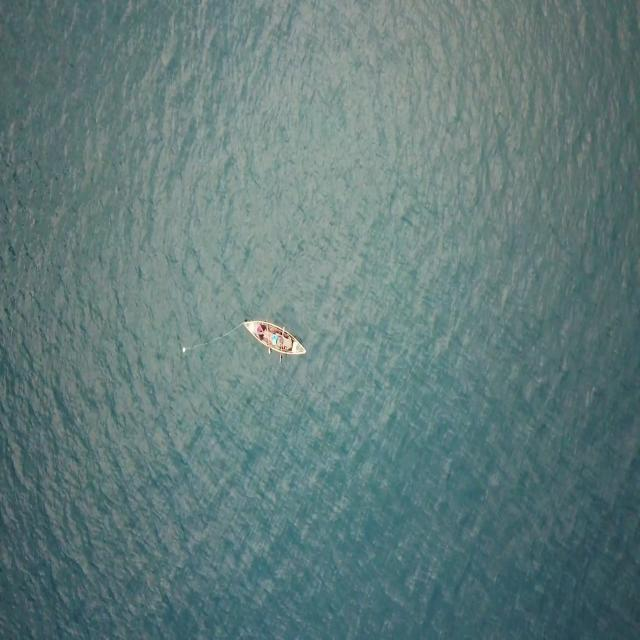ship: (242, 311, 309, 364)
